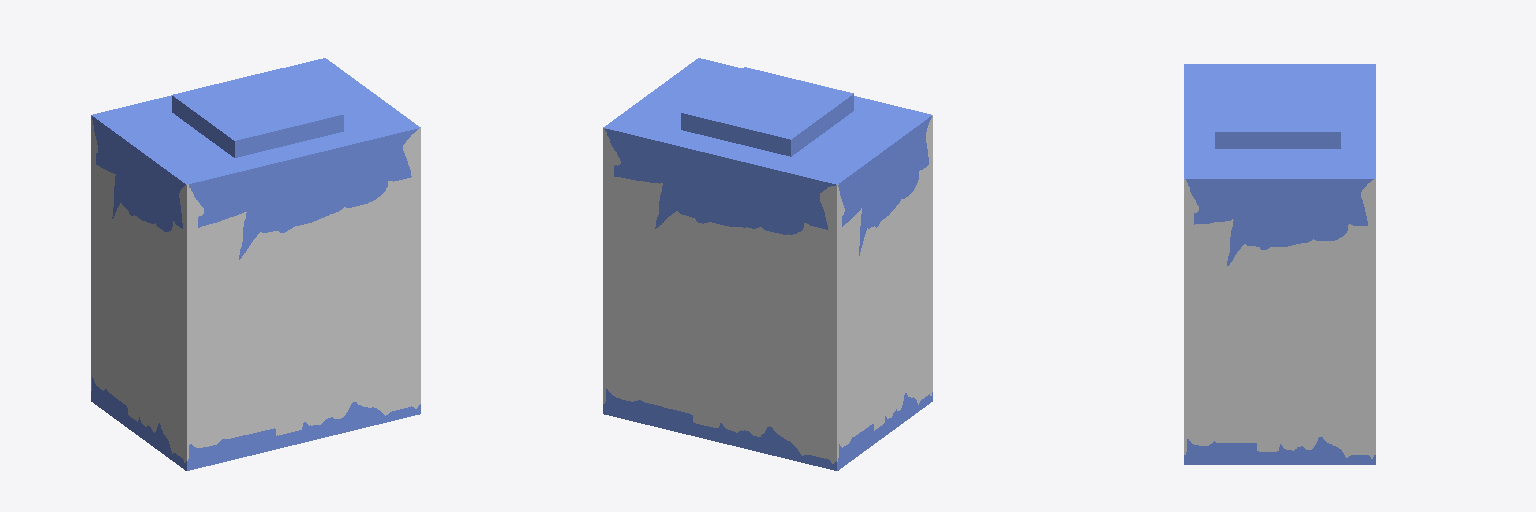
3 views of the same model, side by side, from view 1: azimuth 30°, elevation 25°; view 2: azimuth 150°, elevation 25°; view 3: azimuth 270°, elevation 25° (orthographic).
Parts seen in each view (by area): view 1: cube2; view 2: cube2; view 3: cube2.
Boxes of the visible parts, x1=… form: cube2: x1=91, y1=58, x2=420, y2=470; cube2: x1=603, y1=58, x2=932, y2=470; cube2: x1=1184, y1=64, x2=1375, y2=464.
Bounding box in the file's own units: 24.95 × 30.89 × 17.62.
Materials: 2 (2 with a texture image).